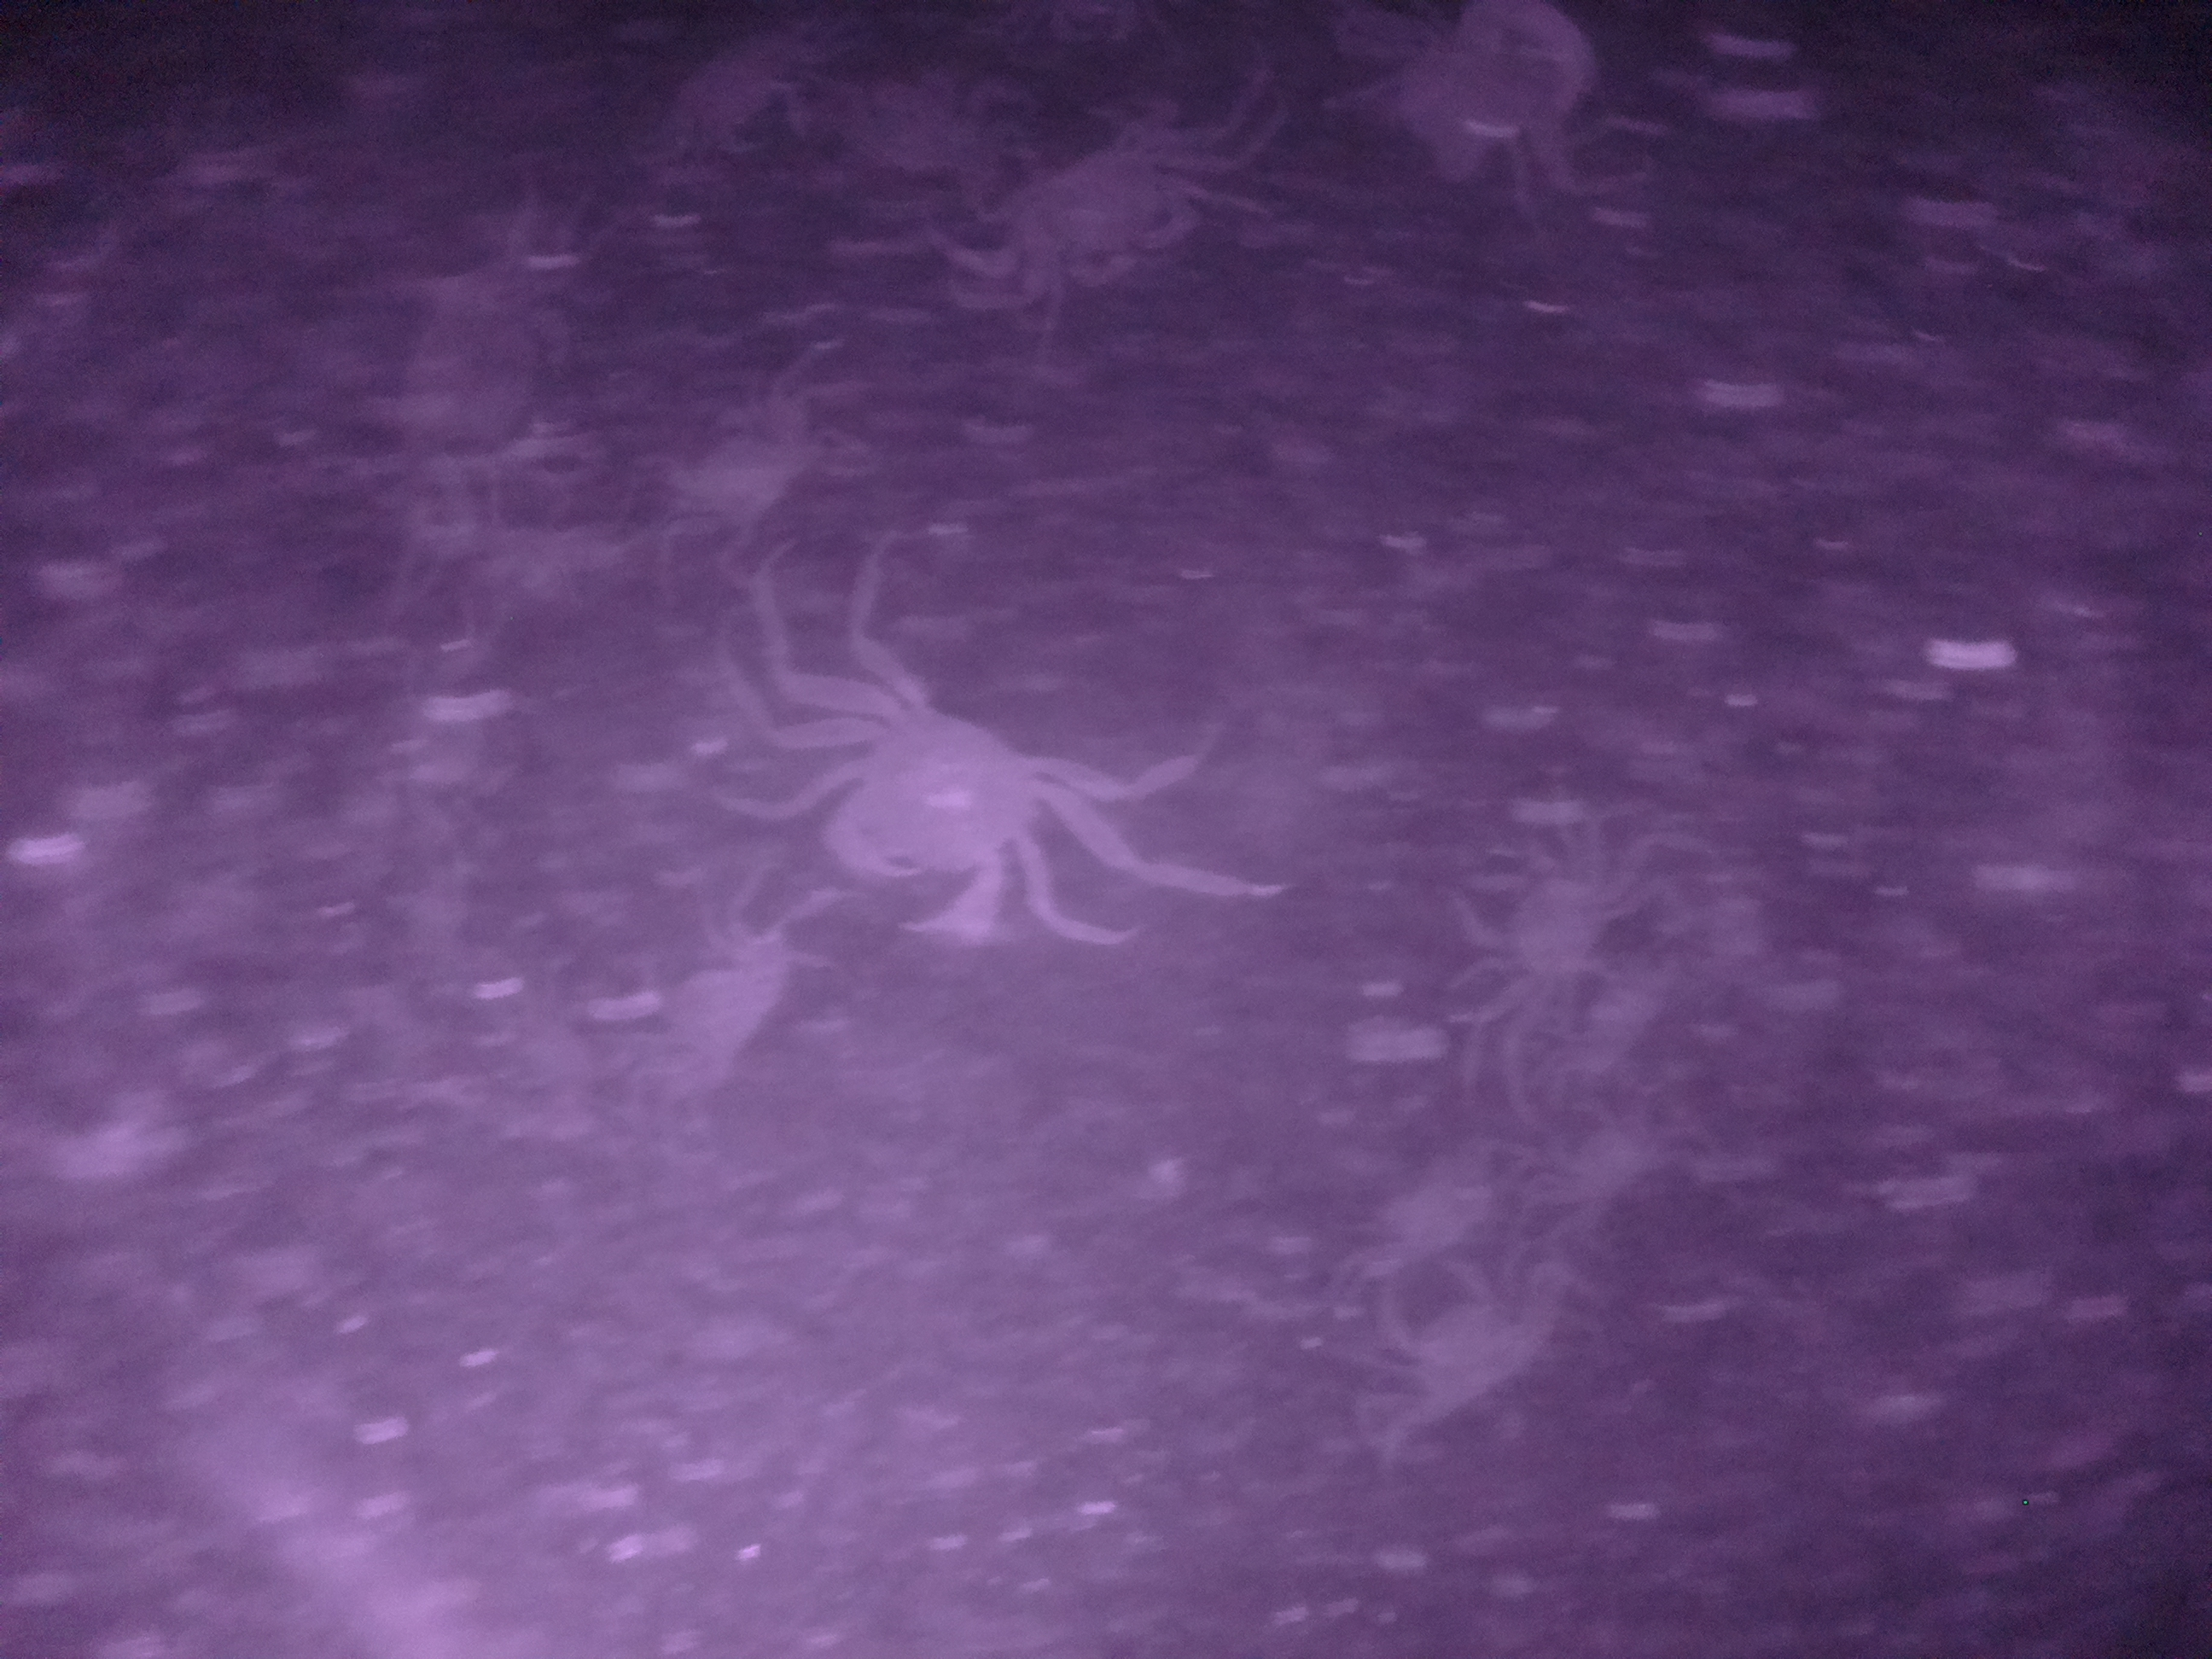Crab: (1437, 810, 1660, 1042), (991, 122, 1237, 308)
